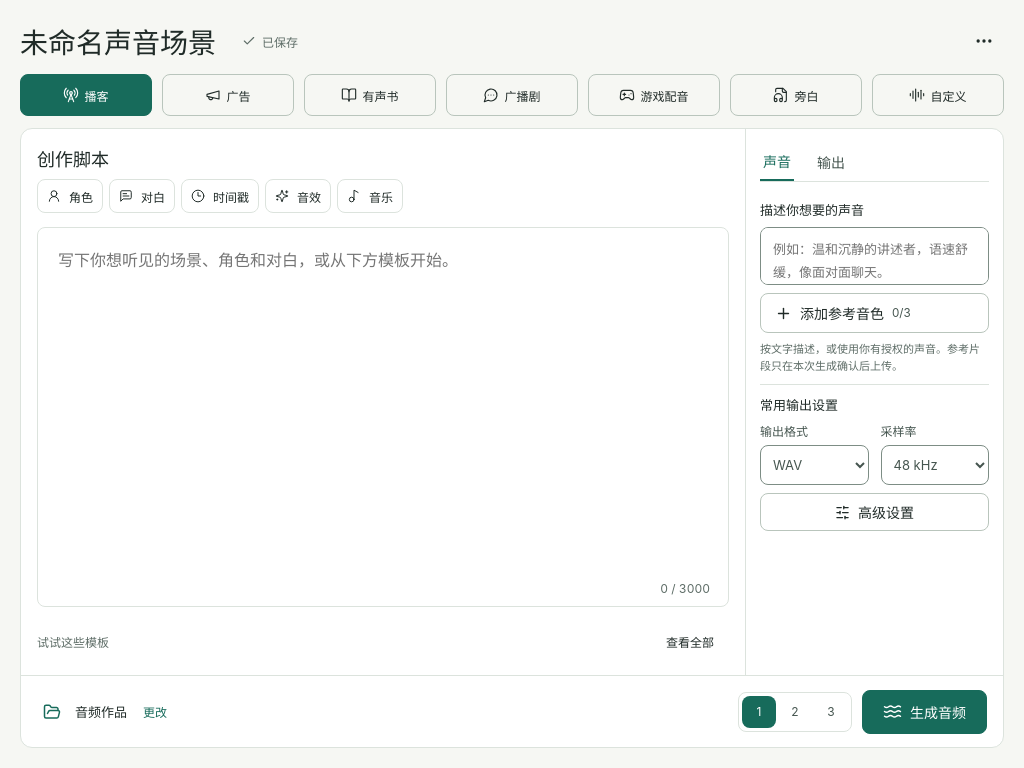
Test case: creation workbench › never submits when server-side preflight reports an error
The image size is (1024, 768).
Click the button "生成音频" at (924, 712), box [862,690,987,734]
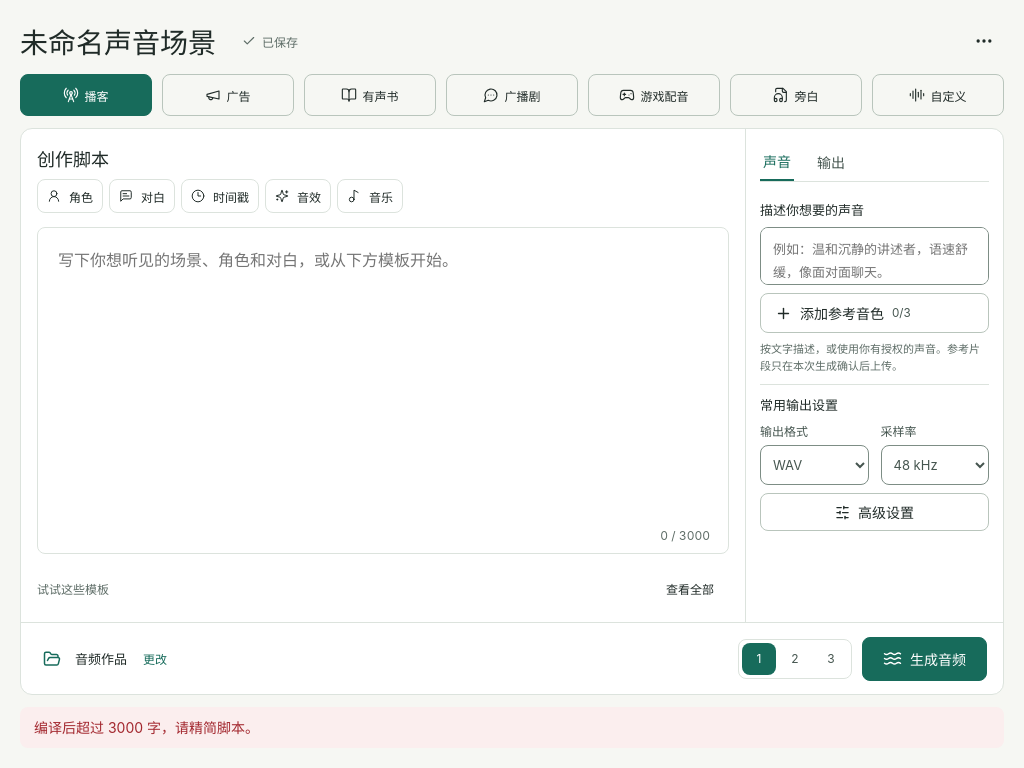
Now the message shows "编译后超过 3000 字", box [34,719,259,736]
